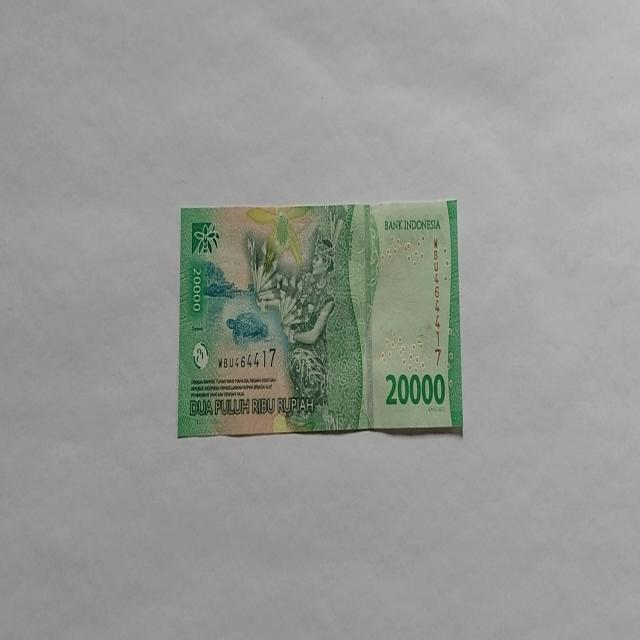dua puluh ribu rupiah: (177, 199, 463, 438), (244, 204, 378, 432)
